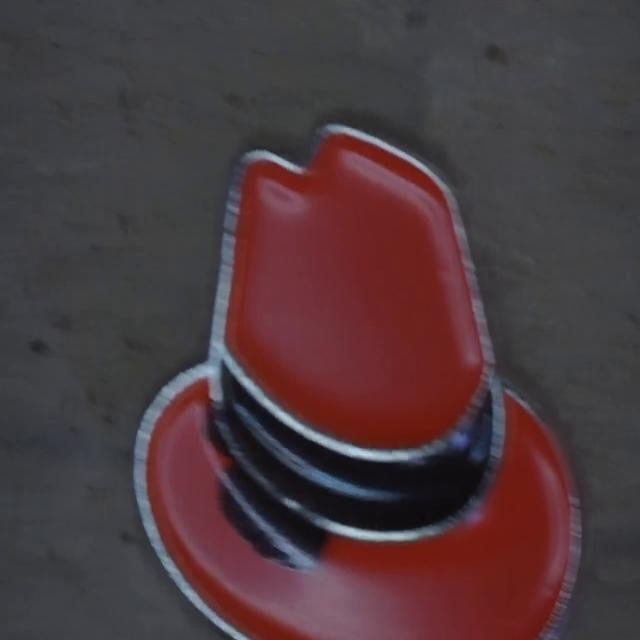Hatband: (212, 362, 498, 538)
Paint_Leak: (220, 462, 326, 571)
RedHatPin: (135, 127, 580, 637)
